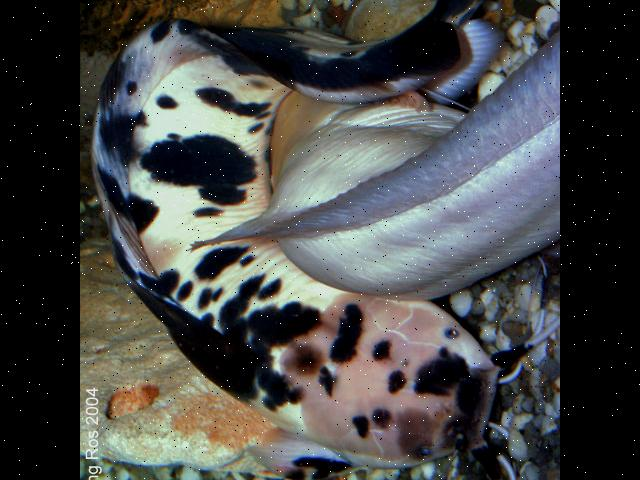Mulut: (438, 350, 534, 470)
Sirip Ekor: (377, 0, 541, 74)
Sirip Punggung: (85, 15, 472, 388), (160, 13, 560, 283)
